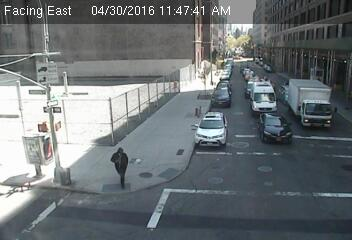neg: (235, 85, 272, 134), (57, 63, 90, 107), (288, 155, 321, 198), (24, 127, 54, 166), (121, 52, 150, 90), (23, 181, 51, 219), (213, 156, 240, 193), (95, 96, 122, 132), (156, 145, 182, 179), (198, 90, 220, 119), (249, 31, 270, 58), (62, 166, 78, 188)
pos: (104, 145, 138, 190)
